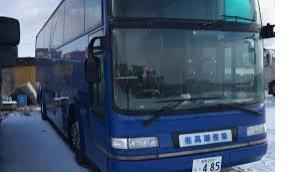bus: (32, 2, 272, 172)
